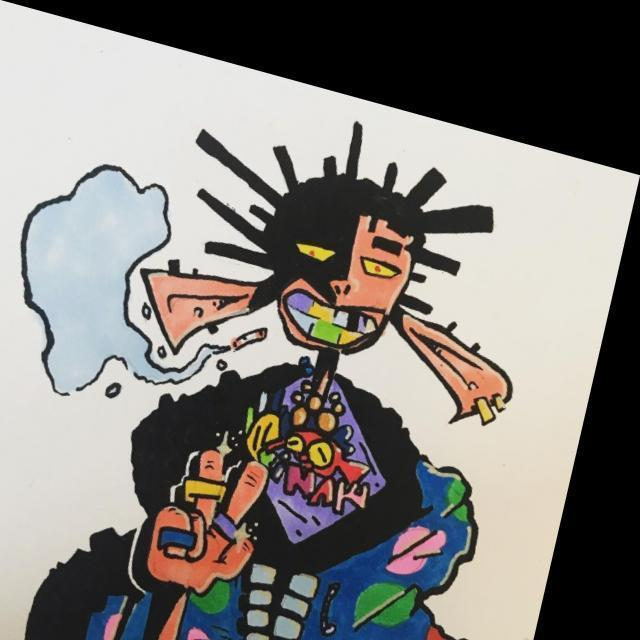-: (0, 44, 593, 640)
